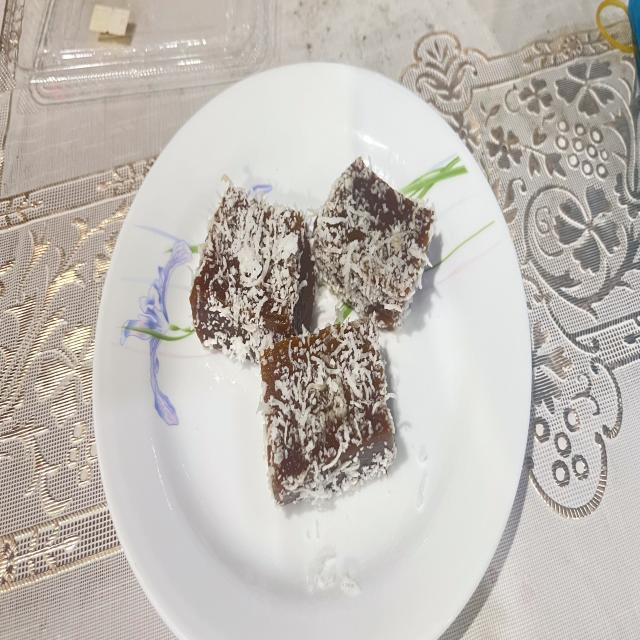kaswi: (260, 318, 395, 504), (190, 184, 314, 362), (311, 158, 435, 329)
